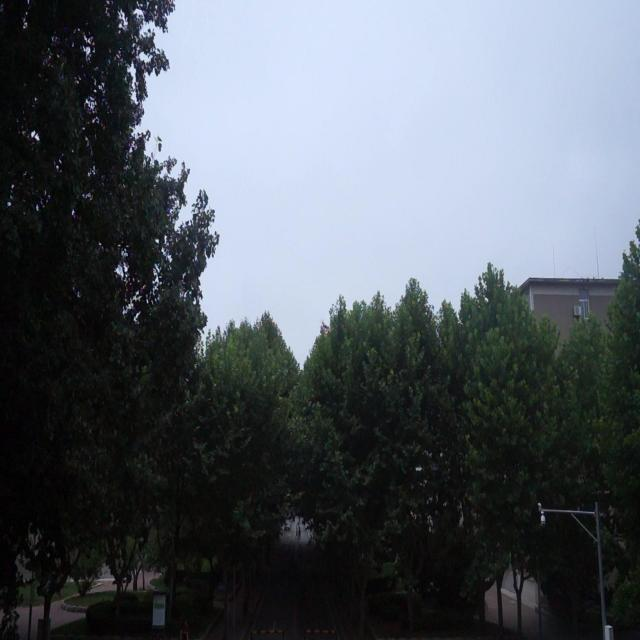UAV: (320, 320, 330, 335)
